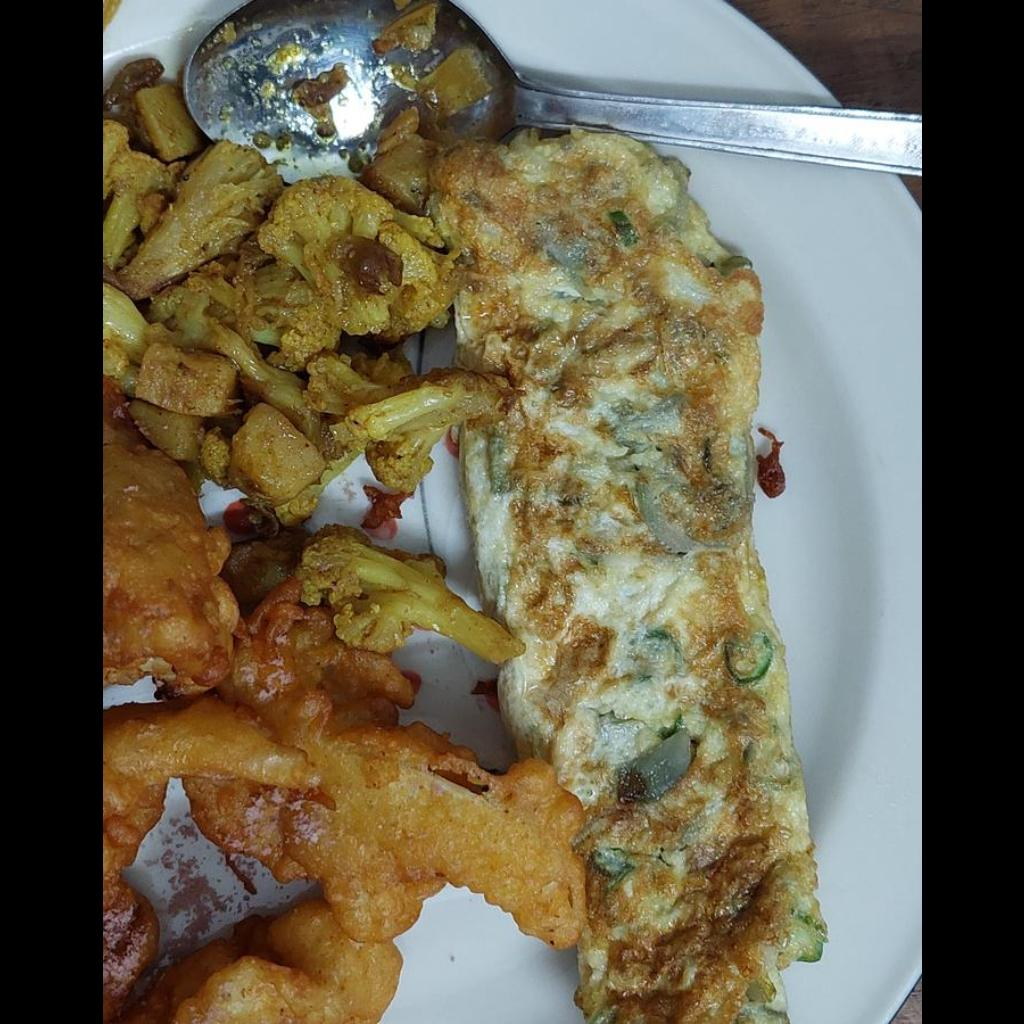cauliflower: (102, 59, 497, 525)
chop-alu: (102, 380, 583, 1023)
egg-poached: (436, 129, 819, 1022)
